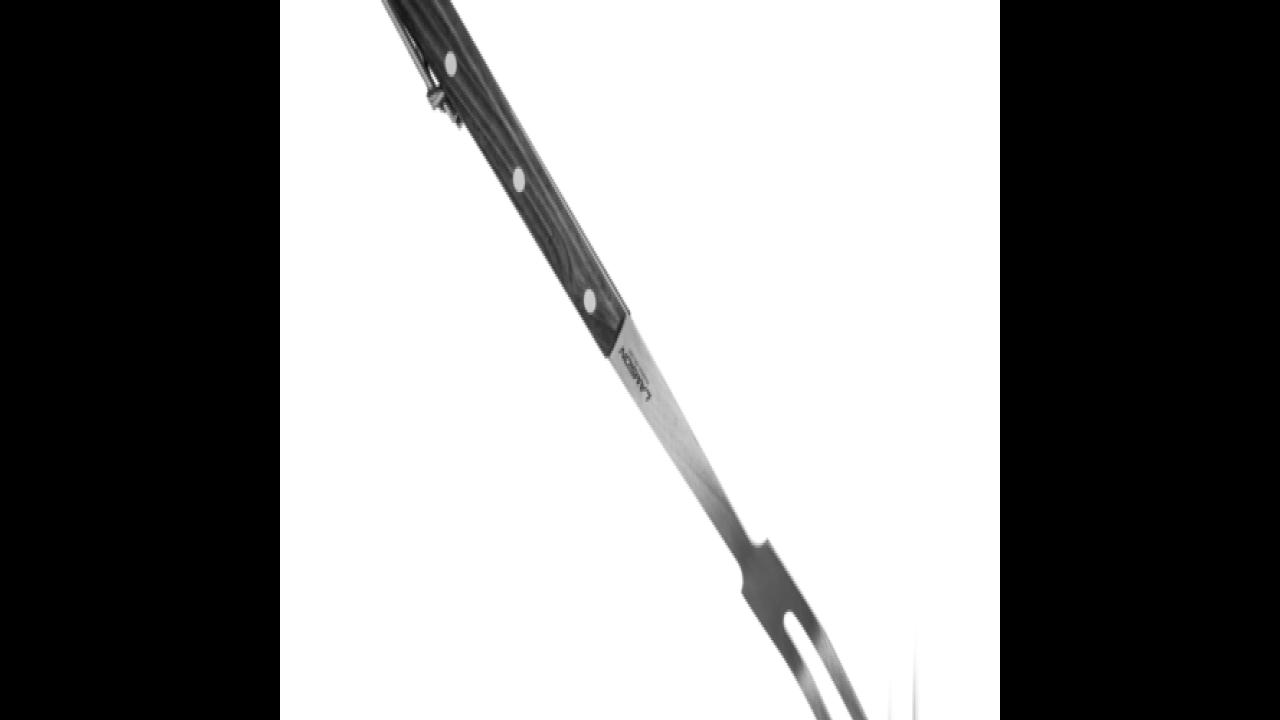fork: (337, 0, 916, 720)
